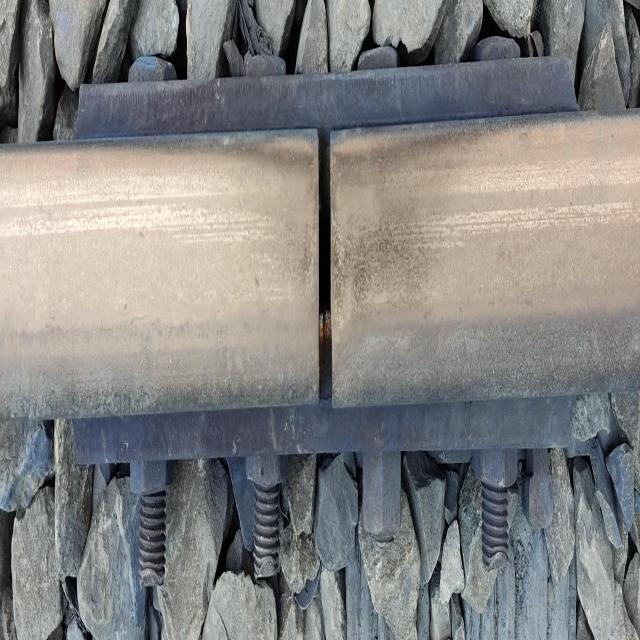Good Joint: (67, 73, 590, 518)
